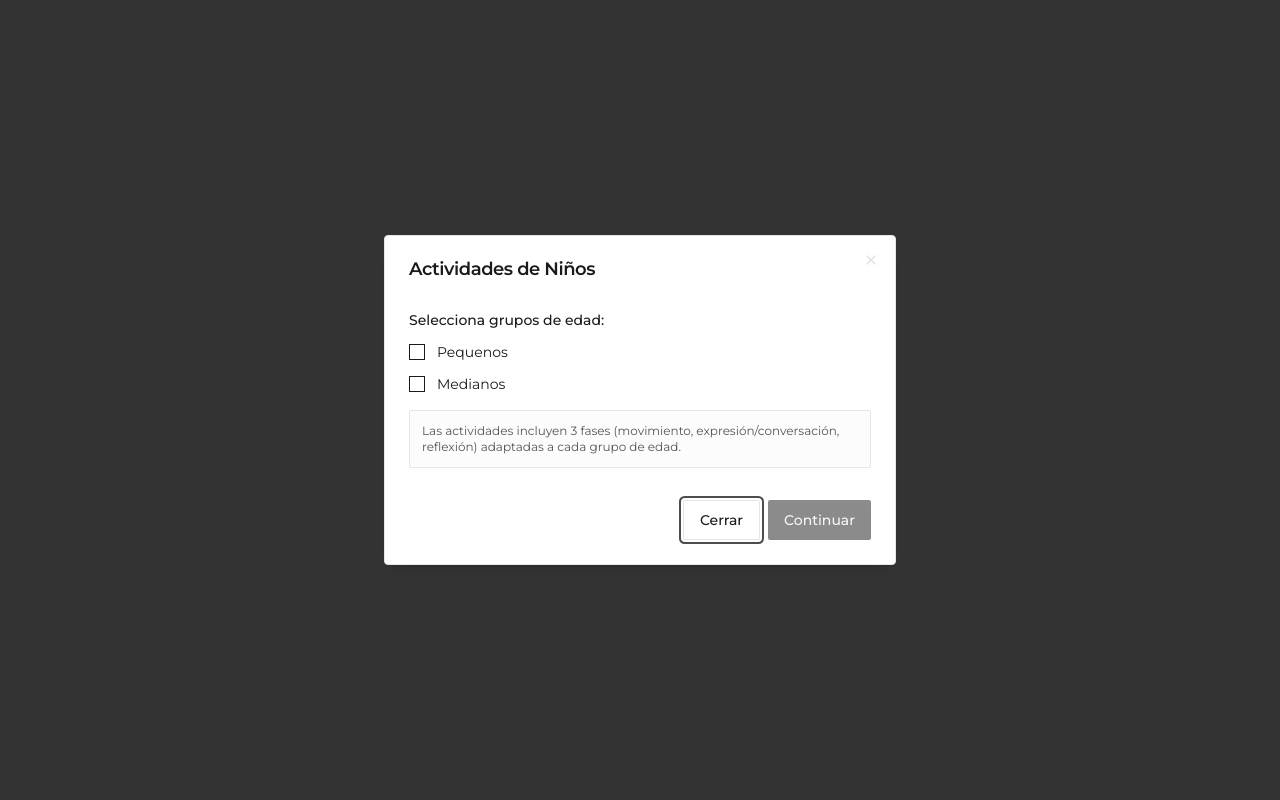
Test case: [A3] compuerta M-D10 sobre la primera carga del inventario › "Seleccionar todos" respeta el tope de 60 en orden M-D12
Click the checkbox named "Pequenos" next to "Pequenos" at x=417, y=352, box x1=409 y1=344 x2=425 y2=360
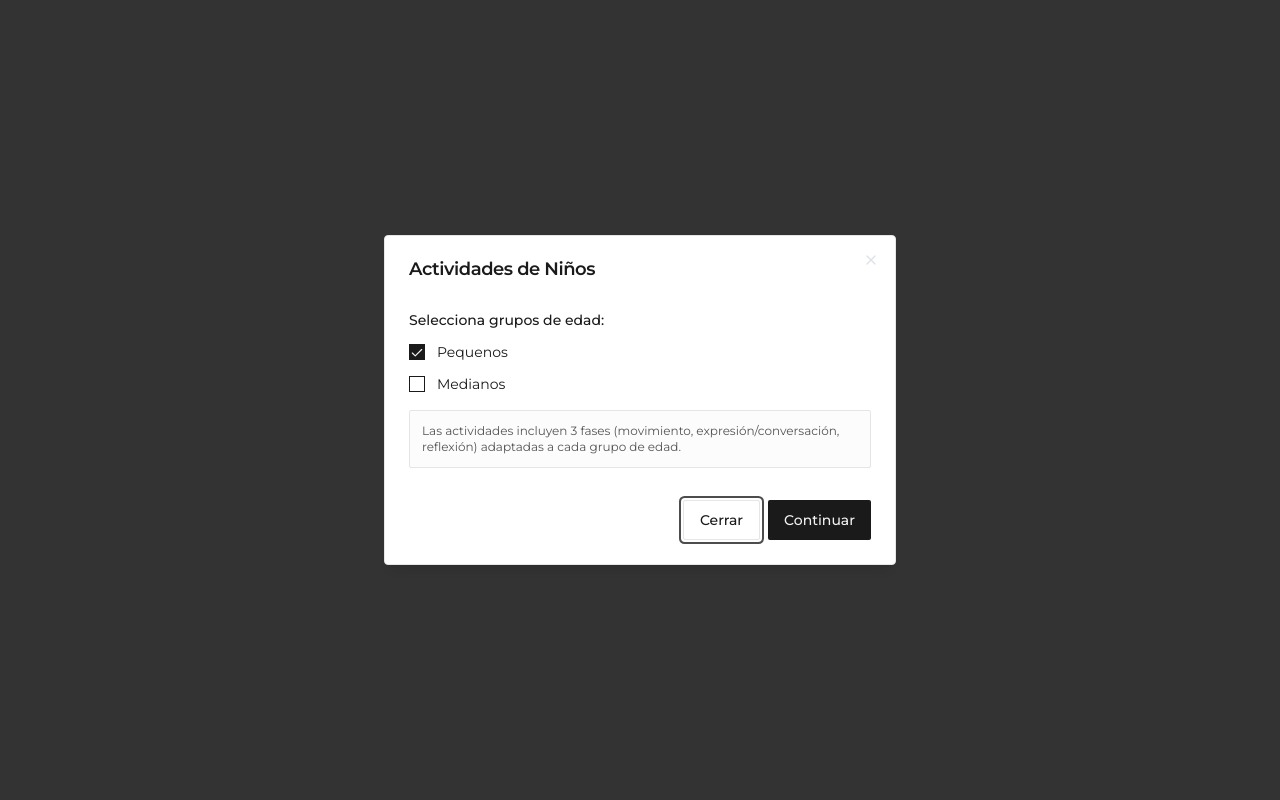
Click the button "Continuar" at x=820, y=520, box x1=768 y1=500 x2=871 y2=540
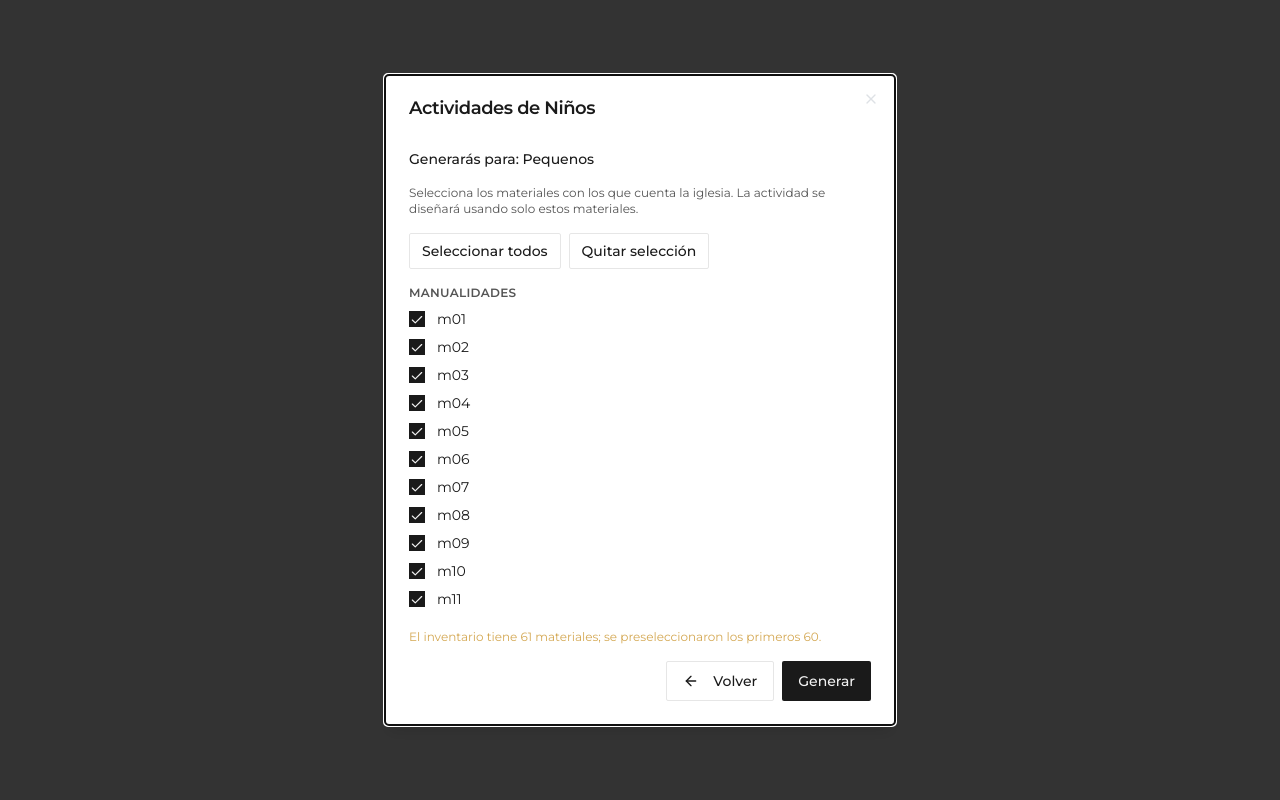
Expected: the button "Generar" is enabled, x1=782 y1=661 x2=871 y2=701
Click the button "Quitar selección" at x=639, y=251, box x1=569 y1=233 x2=709 y2=269
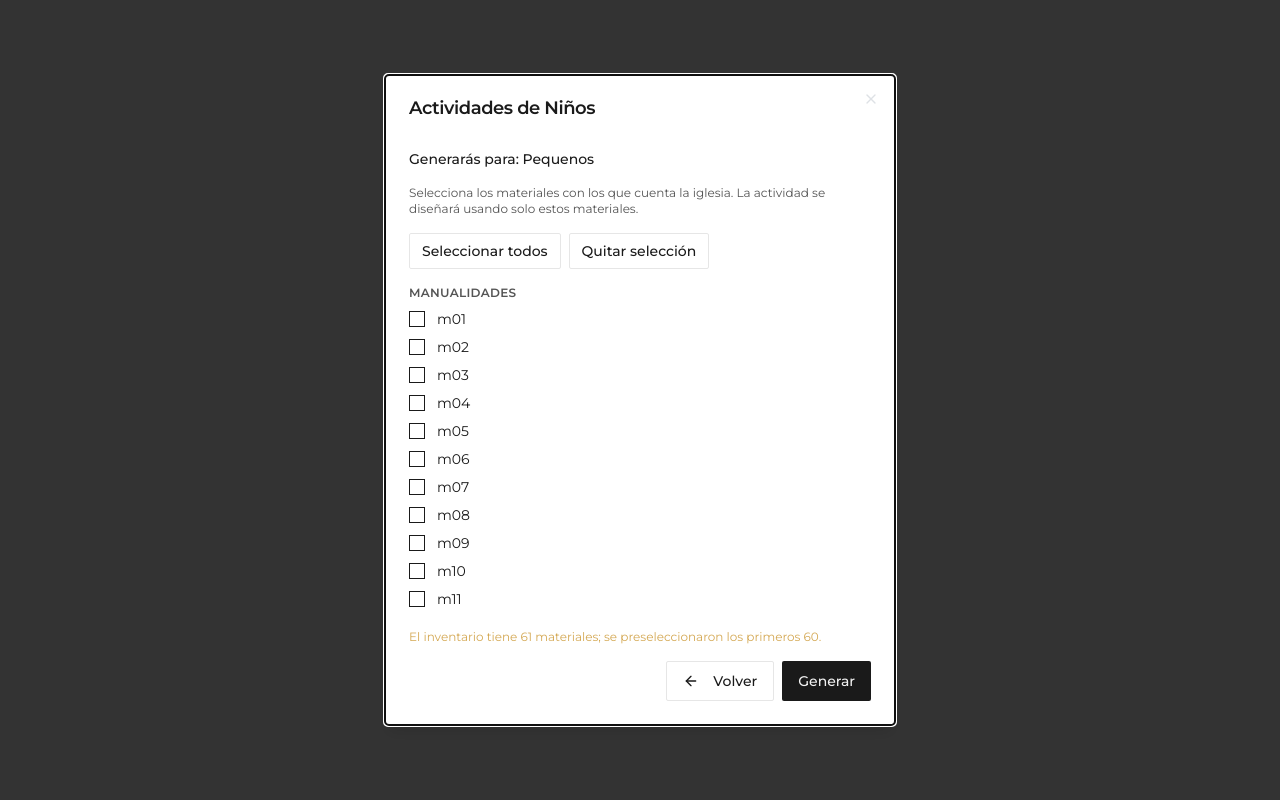
Click the button "Seleccionar todos" at x=485, y=251, box x1=409 y1=233 x2=561 y2=269
(page scrolled)
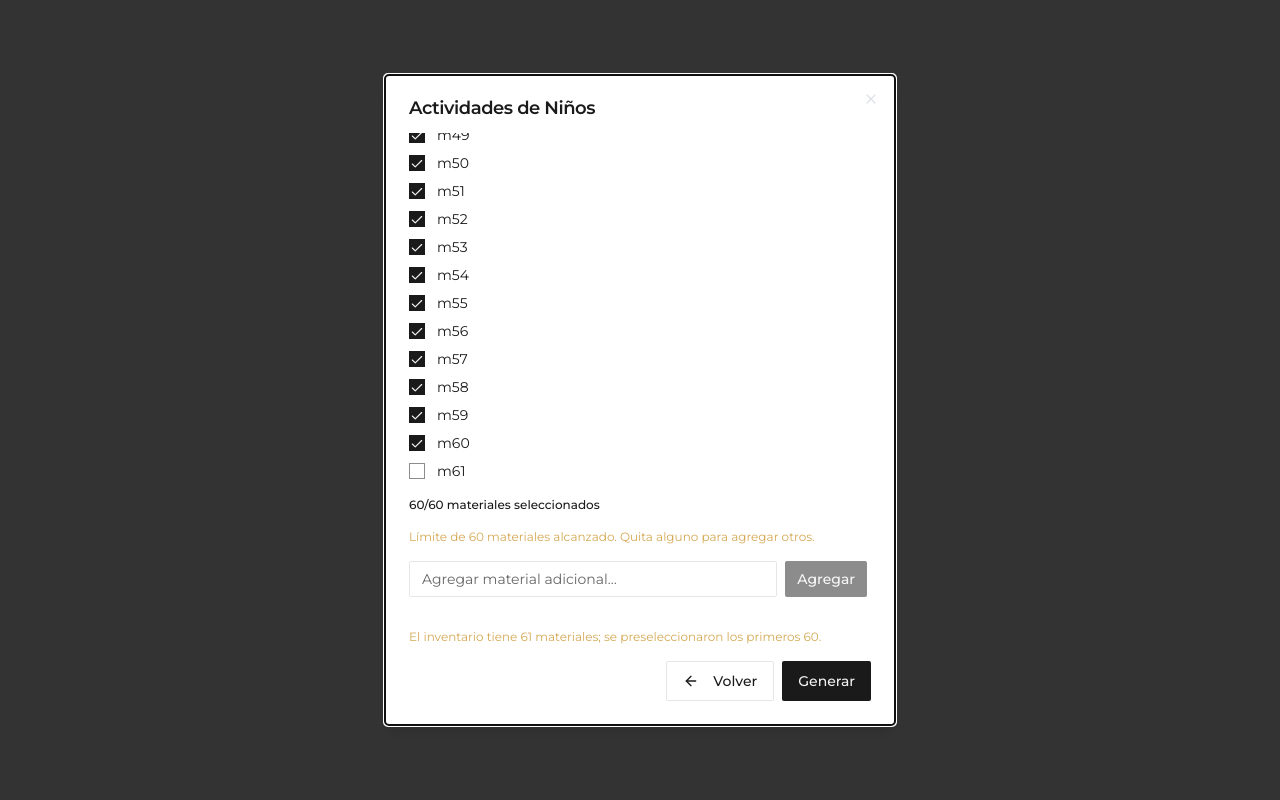
Expected: the checkbox named "m61" is not checked, x1=409 y1=463 x2=425 y2=479
Expected: the text "m60" is shown, x1=437 y1=434 x2=470 y2=452
